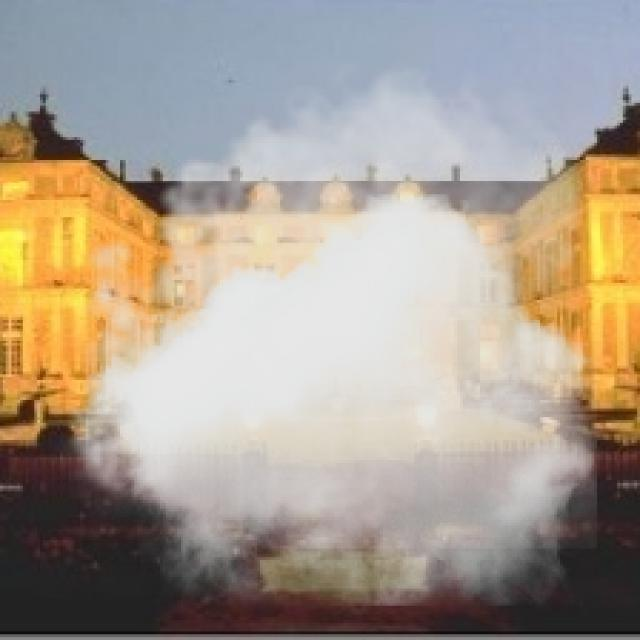Smoke: (52, 49, 598, 606)
